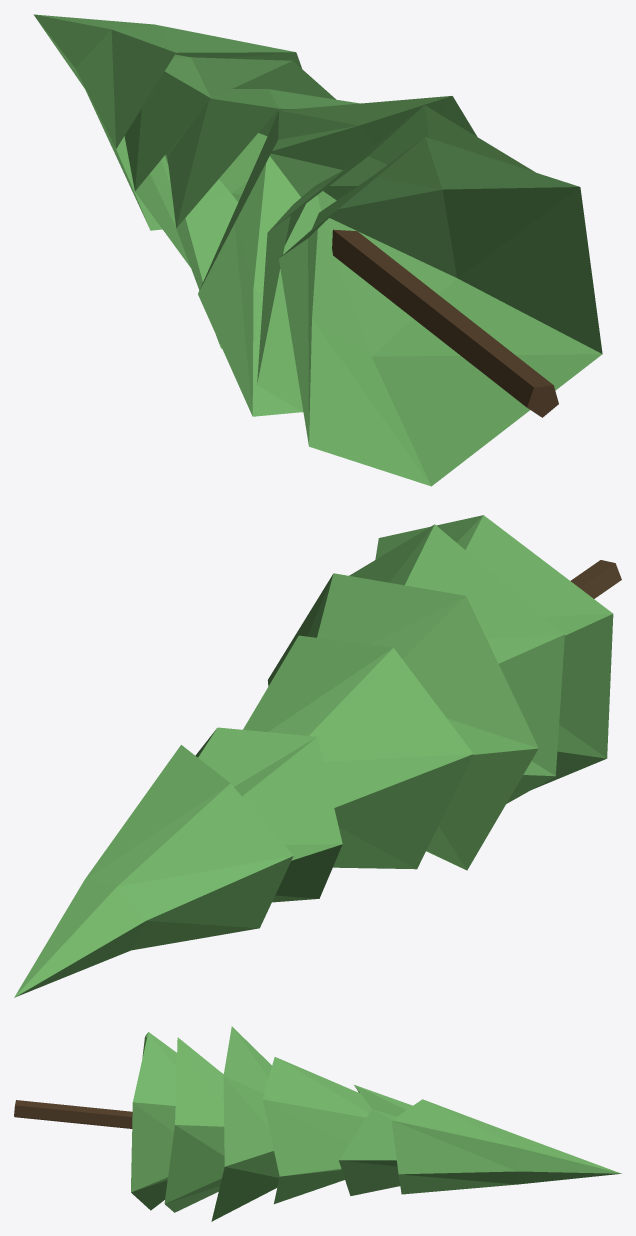
Rendered from Tree1.fbx.
3 renders of one model, top to bottom at view 1: azimuth 30°, elevation 25°; view 2: azimuth 150°, elevation 25°; view 3: azimuth 270°, elevation 25°, orthographic. The views are drawn at different scales.
Parts seen in each view (by area): view 1: Tree1; view 2: Tree1; view 3: Tree1.
Part boxes in pixels (x1,y1,x2,y2): Tree1: (33, 14, 602, 486); Tree1: (14, 515, 621, 997); Tree1: (14, 1026, 621, 1221).
Bounding box in the file's own units: 5.51 × 5.79 × 17.64.
